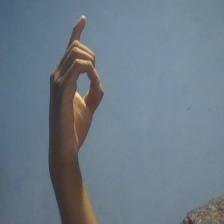D: (44, 12, 106, 164)
